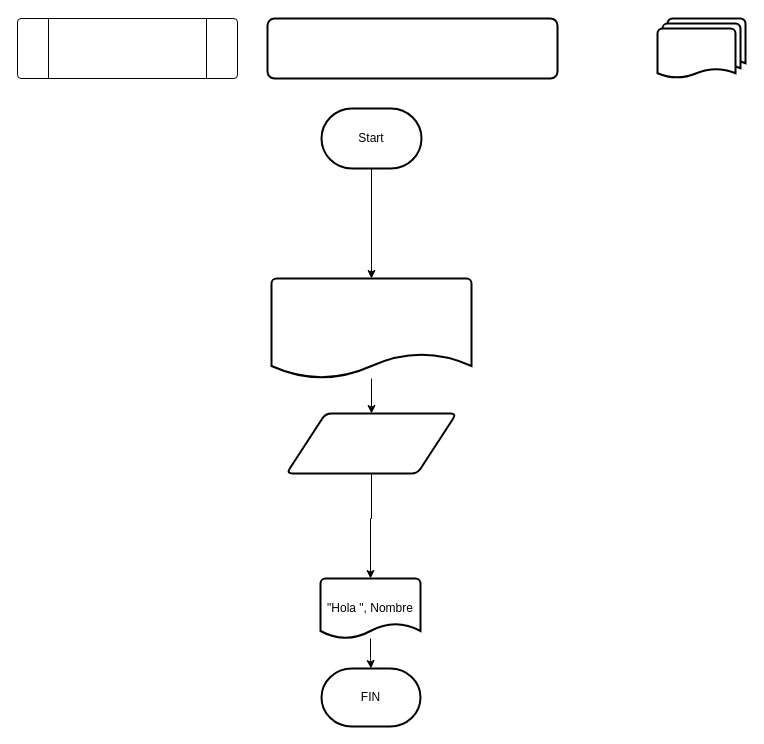
The diagram is 764 pixels wide and 744 high, and some of its shapes have lost their labels. Here are the shapes that lost their labels. From the top down, the centre of each, then its label:
At (x=371, y=328): "Por favor ponga su nombre".
At (x=371, y=443): "Nombre".
